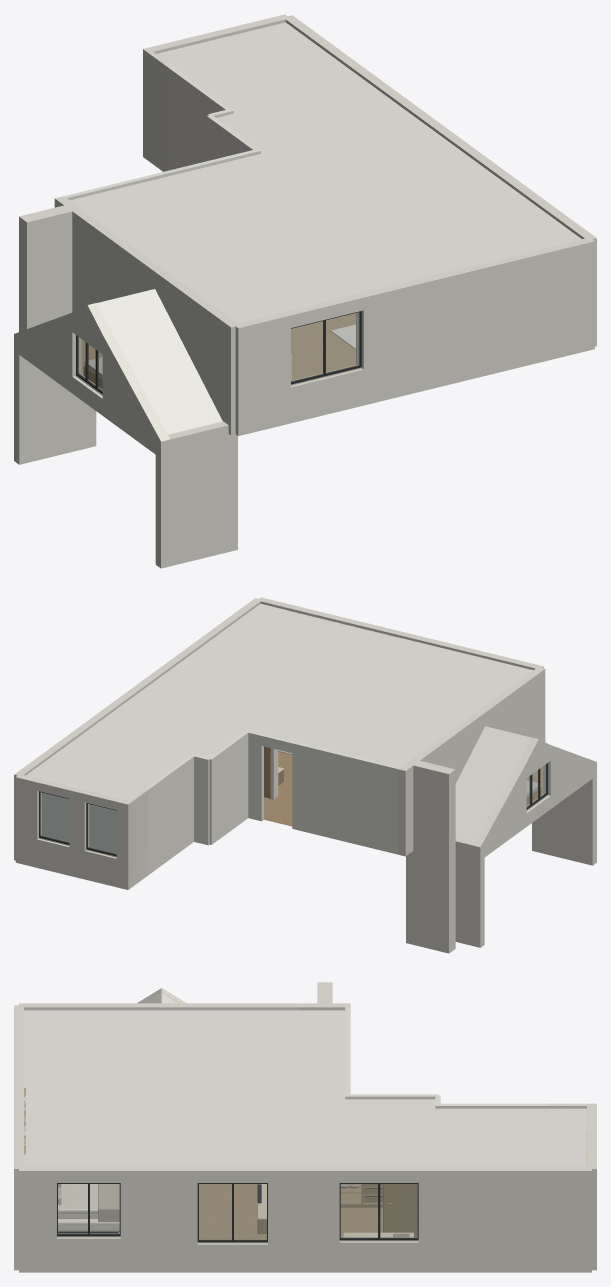
3 views of the same model, one above another, from view 1: azimuth 30°, elevation 25°; view 2: azimuth 150°, elevation 25°; view 3: azimuth 270°, elevation 25° (orthographic). The views are drawn at different scales.
Parts seen in each view (by area): view 1: Bedroom 02 | ceiling 0, Proposal | New wing south upper end pier.001, Bedroom 02 | ceiling 2, Proposal | Garage wing south return.001, Proposal | West upper principal facade above wing roof.001, Bedroom 02 | retained vault soffit, Proposal | New wing south upper pier 0.001, Proposal | Garage wing north return.001, Proposal | Entrance bay south return.001, Proposal | Guest bathroom west.001, Proposal | New wing south upper window 0 glass.001, Proposal | Continued roof garage wing gable south head 0.001 (+15 smaller); view 2: Bedroom 02 | ceiling 0, Bedroom 02 | ceiling 2, Proposal | Principal suite north partition pier 0.001, Proposal | Entrance bay south return.001, Bedroom 02 | retained vault soffit.001, Proposal | West upper principal facade above wing roof.001, Proposal | Guest bathroom west.001, Proposal | Garage wing south return.001, Proposal | Principal study west wall.001, Proposal | Garage wing north return.001, Proposal | Courtyard upper return.001, Proposal | North upper facade east end pier.001 (+20 smaller); view 3: Bedroom 02 | ceiling 0, Bedroom 02 | ceiling 2, Proposal | New wing east upper end pier.001, Proposal | New wing east upper pier 1.001, Proposal | New wing east upper pier 2.001, Proposal | New wing east upper window 2 glass.001, Proposal | New wing east upper pier 0.001, Proposal | New wing east upper window 1 glass.001, Bedroom 02 | floor 0, Proposal | New wing east upper window 0 glass.001, Proposal | New wing east upper sill 2.001, Proposal | New wing east upper sill 0.001 (+15 smaller).
Part boxes in pixels (box(x1,y1,x2,y2)): Bedroom 02 | ceiling 0: box(70, 141, 581, 322); Proposal | New wing south upper end pier.001: box(358, 237, 594, 405); Bedroom 02 | ceiling 2: box(156, 22, 447, 178); Proposal | Garage wing south return.001: box(155, 421, 237, 568); Proposal | West upper principal facade above wing roof.001: box(81, 216, 237, 421); Bedroom 02 | retained vault soffit: box(97, 289, 222, 434); Proposal | New wing south upper pier 0.001: box(233, 311, 290, 435); Proposal | Garage wing north return.001: box(14, 335, 96, 464); Proposal | Entrance bay south return.001: box(19, 203, 81, 331); Proposal | Guest bathroom west.001: box(145, 50, 231, 171); Proposal | New wing south upper window 0 glass.001: box(291, 312, 359, 381); Proposal | Continued roof garage wing gable south head 0.001: box(102, 332, 169, 441); Bedroom 02 | ceiling 0: box(152, 603, 532, 767); Bedroom 02 | ceiling 2: box(26, 683, 272, 800); Proposal | Principal suite north partition pier 0.001: box(292, 741, 401, 854); Proposal | Entrance bay south return.001: box(406, 761, 455, 953); Bedroom 02 | retained vault soffit.001: box(455, 726, 530, 841); Proposal | West upper principal facade above wing roof.001: box(420, 668, 543, 774); Proposal | Guest bathroom west.001: box(128, 754, 193, 885); Proposal | Garage wing south return.001: box(532, 763, 596, 865); Proposal | Principal study west wall.001: box(208, 730, 248, 844); Proposal | Garage wing north return.001: box(455, 837, 484, 947); Proposal | Courtyard upper return.001: box(124, 789, 148, 889); Proposal | North upper facade east end pier.001: box(15, 774, 40, 867); Bedroom 02 | ceiling 0: box(24, 1010, 345, 1166); Bedroom 02 | ceiling 2: box(282, 1099, 586, 1166); Proposal | New wing east upper end pier.001: box(418, 1167, 591, 1272); Proposal | New wing east upper pier 1.001: box(120, 1167, 197, 1272); Proposal | New wing east upper pier 2.001: box(268, 1167, 339, 1272); Proposal | New wing east upper window 2 glass.001: box(341, 1184, 417, 1237); Proposal | New wing east upper pier 0.001: box(19, 1167, 56, 1272); Proposal | New wing east upper window 1 glass.001: box(199, 1184, 266, 1239); Bedroom 02 | floor 0: box(199, 1184, 266, 1239); Proposal | New wing east upper window 0 glass.001: box(58, 1184, 119, 1233); Proposal | New wing east upper sill 2.001: box(339, 1241, 418, 1272); Proposal | New wing east upper sill 0.001: box(57, 1237, 120, 1272).
Bounding box in the file's own units: 10.72 × 5.35 × 13.28.
Materials: 36 (3 with a texture image).
